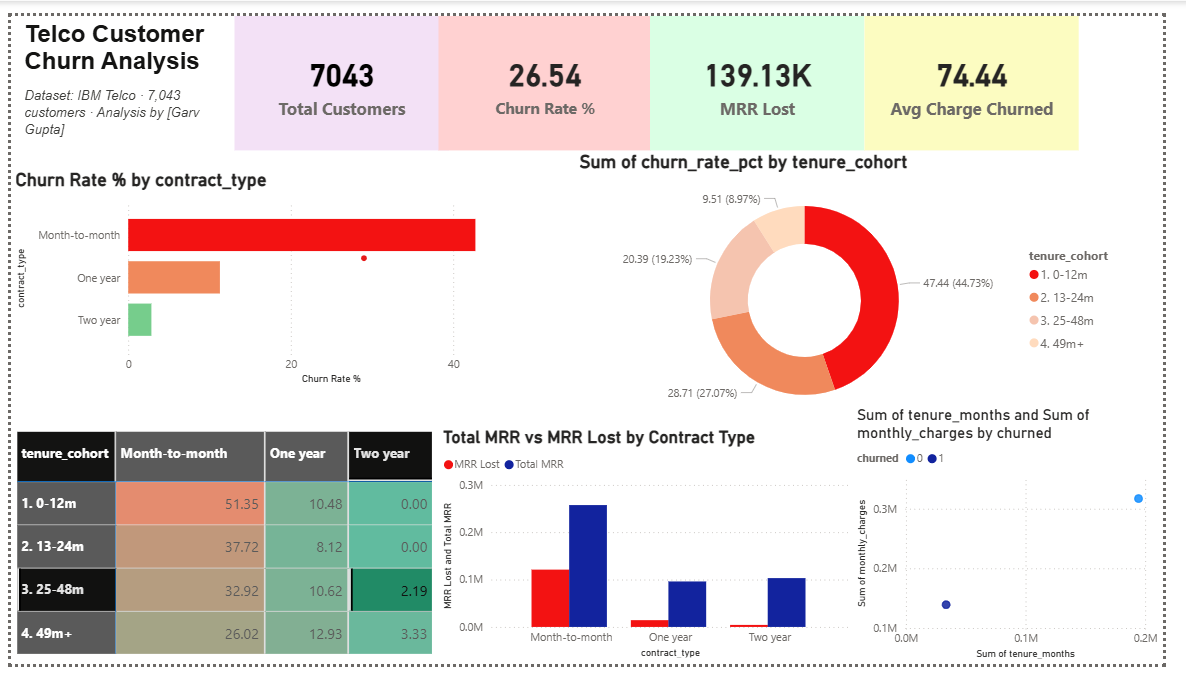

The page's visual inventory and layout, read from the dashboard file:
{"tool":"powerbi","page":{"name":"Page 1","canvas":[1280,720],"ordinal":0},"visuals":[{"type":"textbox","box":[9.4,0,292.9,145.5],"z":0},{"type":"textbox","box":[10,72.5,237.5,72.5],"z":1000},{"type":"card","fields":{"Values":["customer_full.Total Custoomers"]},"box":[247.6,0,238.1,149.3],"z":2000},{"type":"card","fields":{"Values":["customer_full.Churn Rate %"]},"box":[474.3,0,236.2,149.3],"z":3000},{"type":"card","fields":{"Values":["customer_full.MRR Lost"]},"box":[710.6,0,238.1,149.3],"z":3001},{"type":"card","fields":{"Values":["customer_full.Avg Charge Churned"]},"box":[948.7,0,238.1,149.3],"z":3002},{"type":"clusteredBarChart","fields":{"Category":["customer_full.contract_type"],"Y":["customer_full.Churn Rate %"]},"box":[0,170.1,593.4,243.8],"z":3003},{"type":"donutChart","fields":{"Category":["churnbytenurecohort.tenure_cohort"],"Y":["Sum(churnbytenurecohort.churn_rate_pct)"]},"box":[627.4,149.3,614.2,308],"z":3004},{"type":"pivotTable","fields":{"Rows":["cohortbycontactmatrix.tenure_cohort"],"Columns":["cohortbycontactmatrix.contract_type"],"Values":["Sum(cohortbycontactmatrix.churn_rate_pct)"]},"box":[1.9,457.3,472.4,260.8],"z":3005},{"type":"clusteredColumnChart","title":"Total MRR vs MRR Lost by Contract Type","fields":{"Category":["churnbycontract.contract_type"],"Y":["customer_full.MRR Lost","customer_full.Total MRR"]},"box":[474.3,457.3,461.1,260.8],"z":3006},{"type":"scatterChart","fields":{"X":["Sum(customer_full.tenure_months)"],"Y":["Sum(customer_full.monthly_charges)"],"Series":["customer_full.churned"]},"box":[935.4,432.8,343.9,285.4],"z":3007}]}

Visuals, with their boxes in screenshot pixels (x1, y1, x2, y2), scaled from the page's 1280x720 canvas onto the 1186x676 screenshot:
textbox: 9 0 280 137
textbox: 9 68 229 136
card - customer_full.Total Custoomers: 229 0 450 140
card - customer_full.Churn Rate %: 439 0 658 140
card - customer_full.MRR Lost: 658 0 879 140
card - customer_full.Avg Charge Churned: 879 0 1100 140
clusteredBarChart - customer_full.contract_type x customer_full.Churn Rate %: 0 160 550 389
donutChart - churnbytenurecohort.tenure_cohort x Sum(churnbytenurecohort.churn_rate_pct): 581 140 1150 429
pivotTable - cohortbycontactmatrix.tenure_cohort x cohortbycontactmatrix.contract_type: 2 429 439 674
"Total MRR vs MRR Lost by Contract Type" clusteredColumnChart: 439 429 867 674
scatterChart - Sum(customer_full.tenure_months) x Sum(customer_full.monthly_charges): 867 406 1185 674
